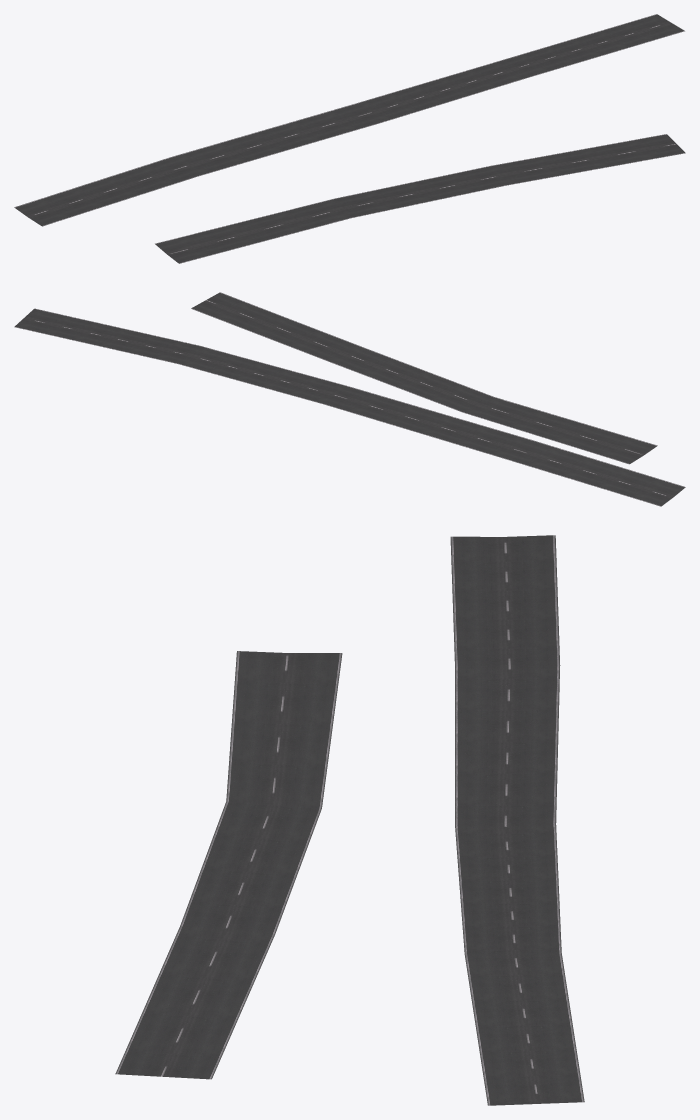
Rendered from cs_roads07.obj.
3 views of the same model, one above another, from view 1: azimuth 30°, elevation 25°; view 2: azimuth 150°, elevation 25°; view 3: azimuth 270°, elevation 25° (orthographic). The views are drawn at different scales.
Parts seen in each view (by area): view 1: cs_roads07; view 2: cs_roads07; view 3: cs_roads07.
Part boxes in pixels (<box>): cs_roads07: <box>14,14,685,263</box>; cs_roads07: <box>14,292,685,506</box>; cs_roads07: <box>115,535,584,1105</box>.
Size of the model in its own units: 184 by 12.76 by 58.
Materials: 2 (2 with a texture image).
